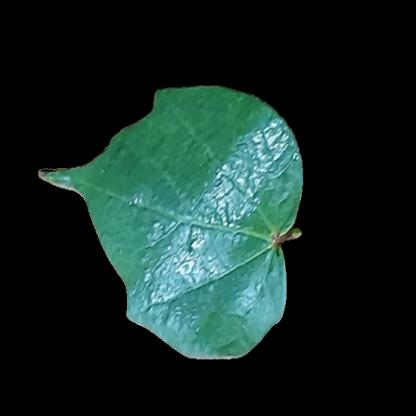healthy: (122, 158, 282, 272), (146, 269, 261, 333), (158, 96, 244, 180)
